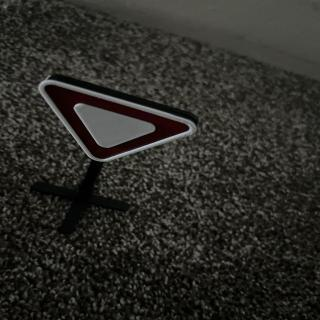sign_yield: (38, 76, 200, 166)
